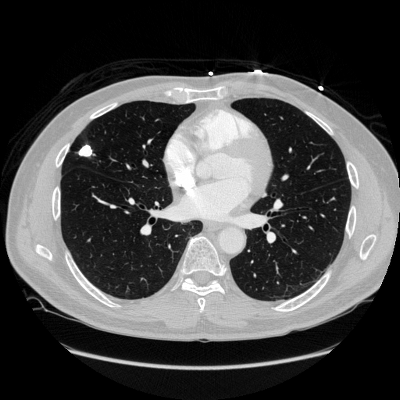nodule: (79, 145, 91, 157)
